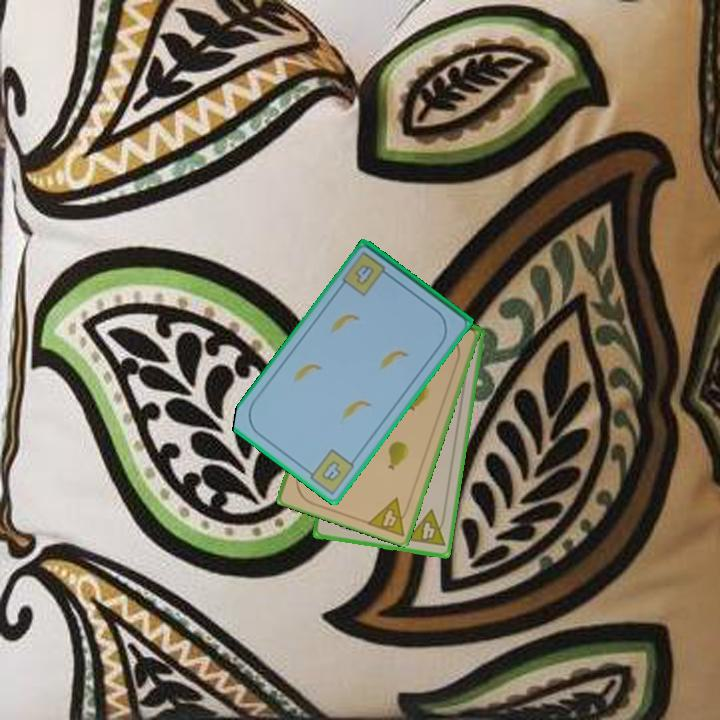4b: (302, 445, 358, 497), (351, 261, 377, 289)
4p: (363, 494, 414, 539), (403, 506, 449, 550)
